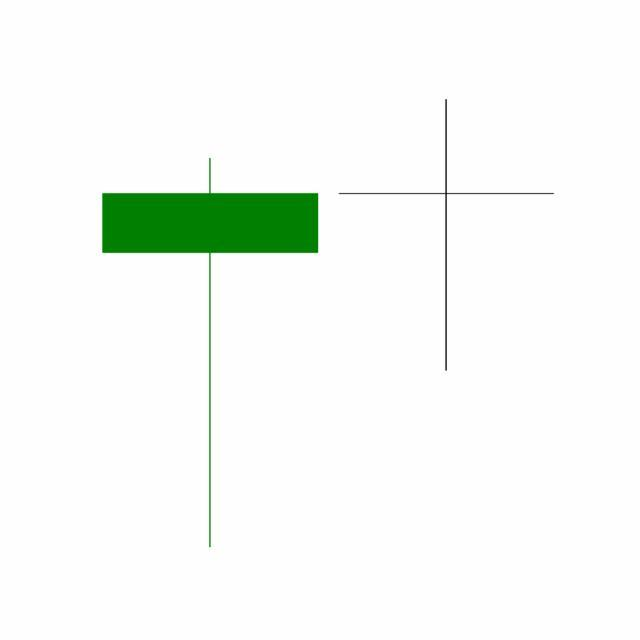Spinning Top: (328, 97, 566, 375)
